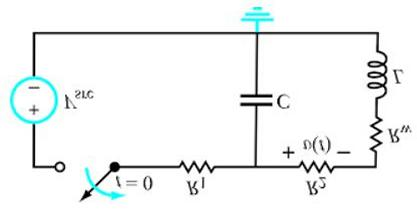inductor: (358, 45, 389, 100)
